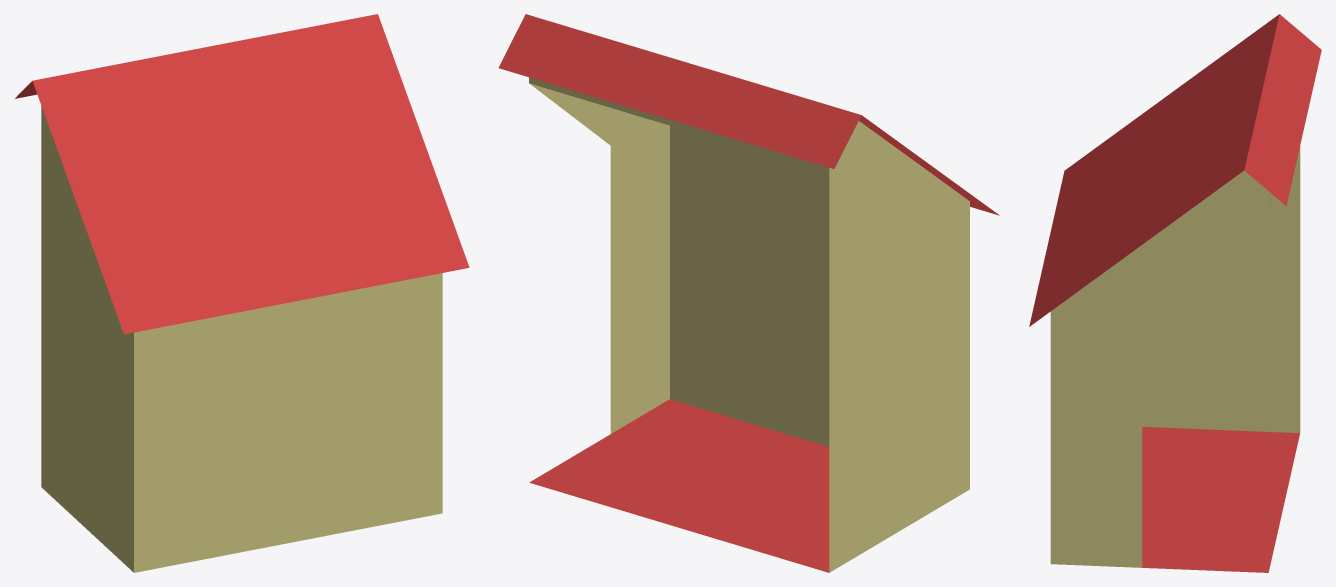
The picture shows the model from 3 angles, left to right: view 1: azimuth 30°, elevation 25°; view 2: azimuth 150°, elevation 25°; view 3: azimuth 270°, elevation 25°; orthographic projection. The views are drawn at different scales.
Bounding box in the file's own units: 9.96 × 7.38 × 11.41.
